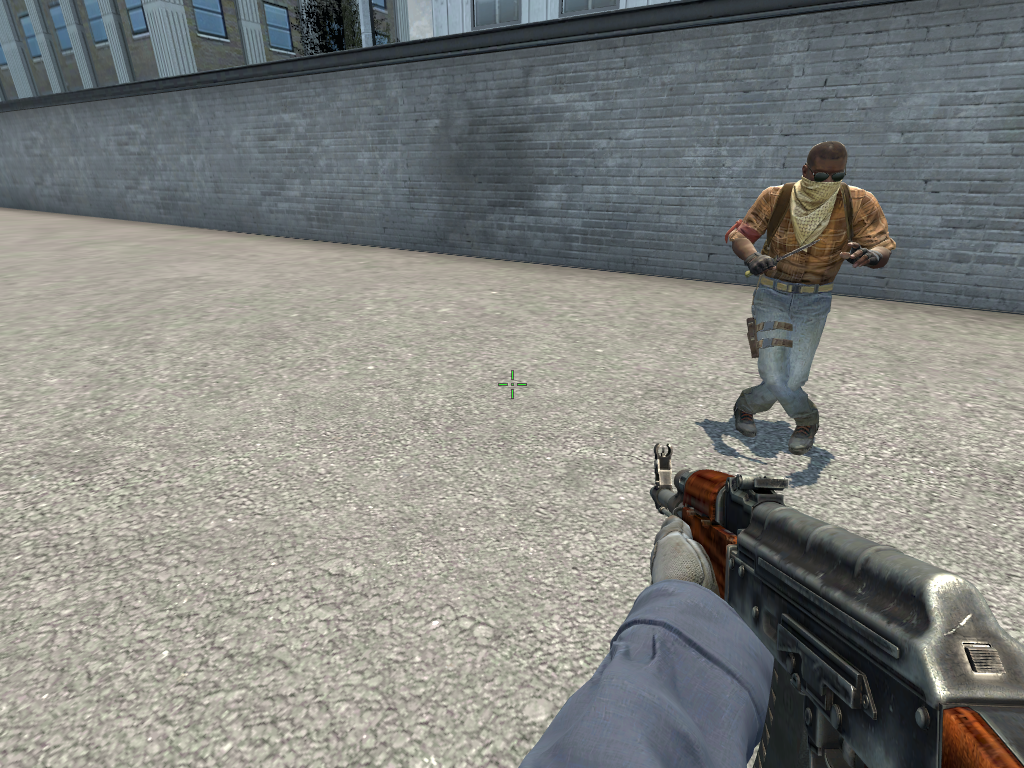tr head: (798, 137, 854, 207)
